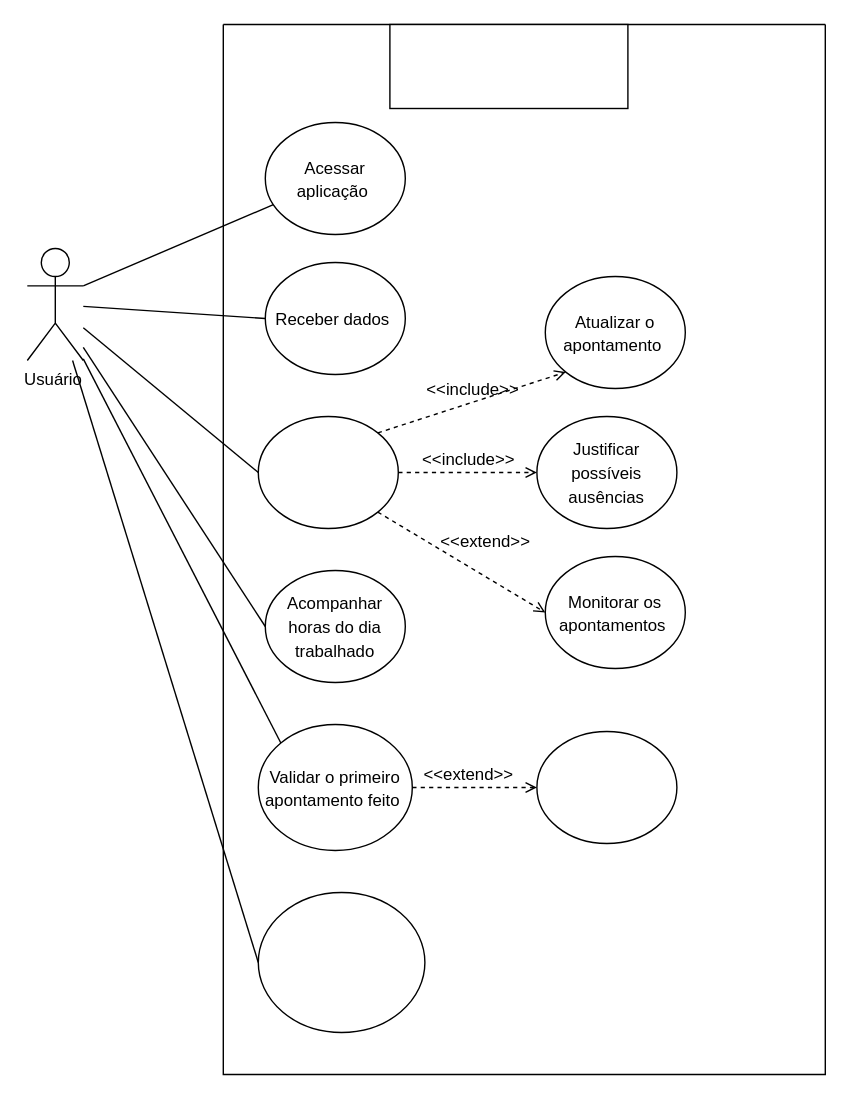
Image size: 850x1099. Some labels were removed from this diagram. Here are the shapes that lost their labels. From the top down, the centre of each, then its label:
At (508,65): "Sistema de Cartão Ponto".
At (327,471): "Lançar apontamentos".
At (606,787): "Resumo sobre o mês apontado".
At (341,961): "Validar o segundo apontamento, corrigindo erros".
